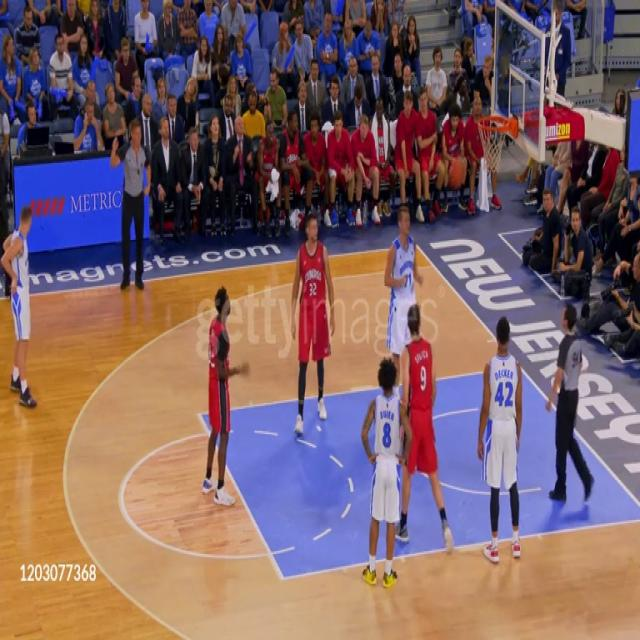ball: (448, 160, 467, 194)
